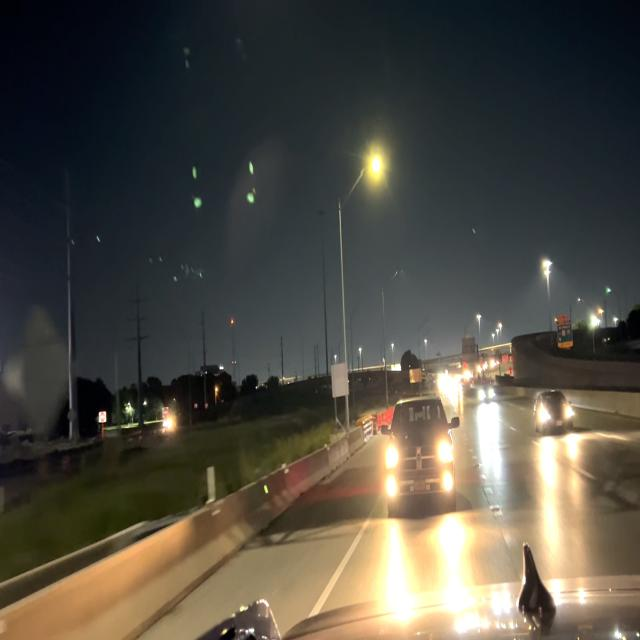back-of-sign: (3, 313, 70, 432), (332, 363, 348, 398)
